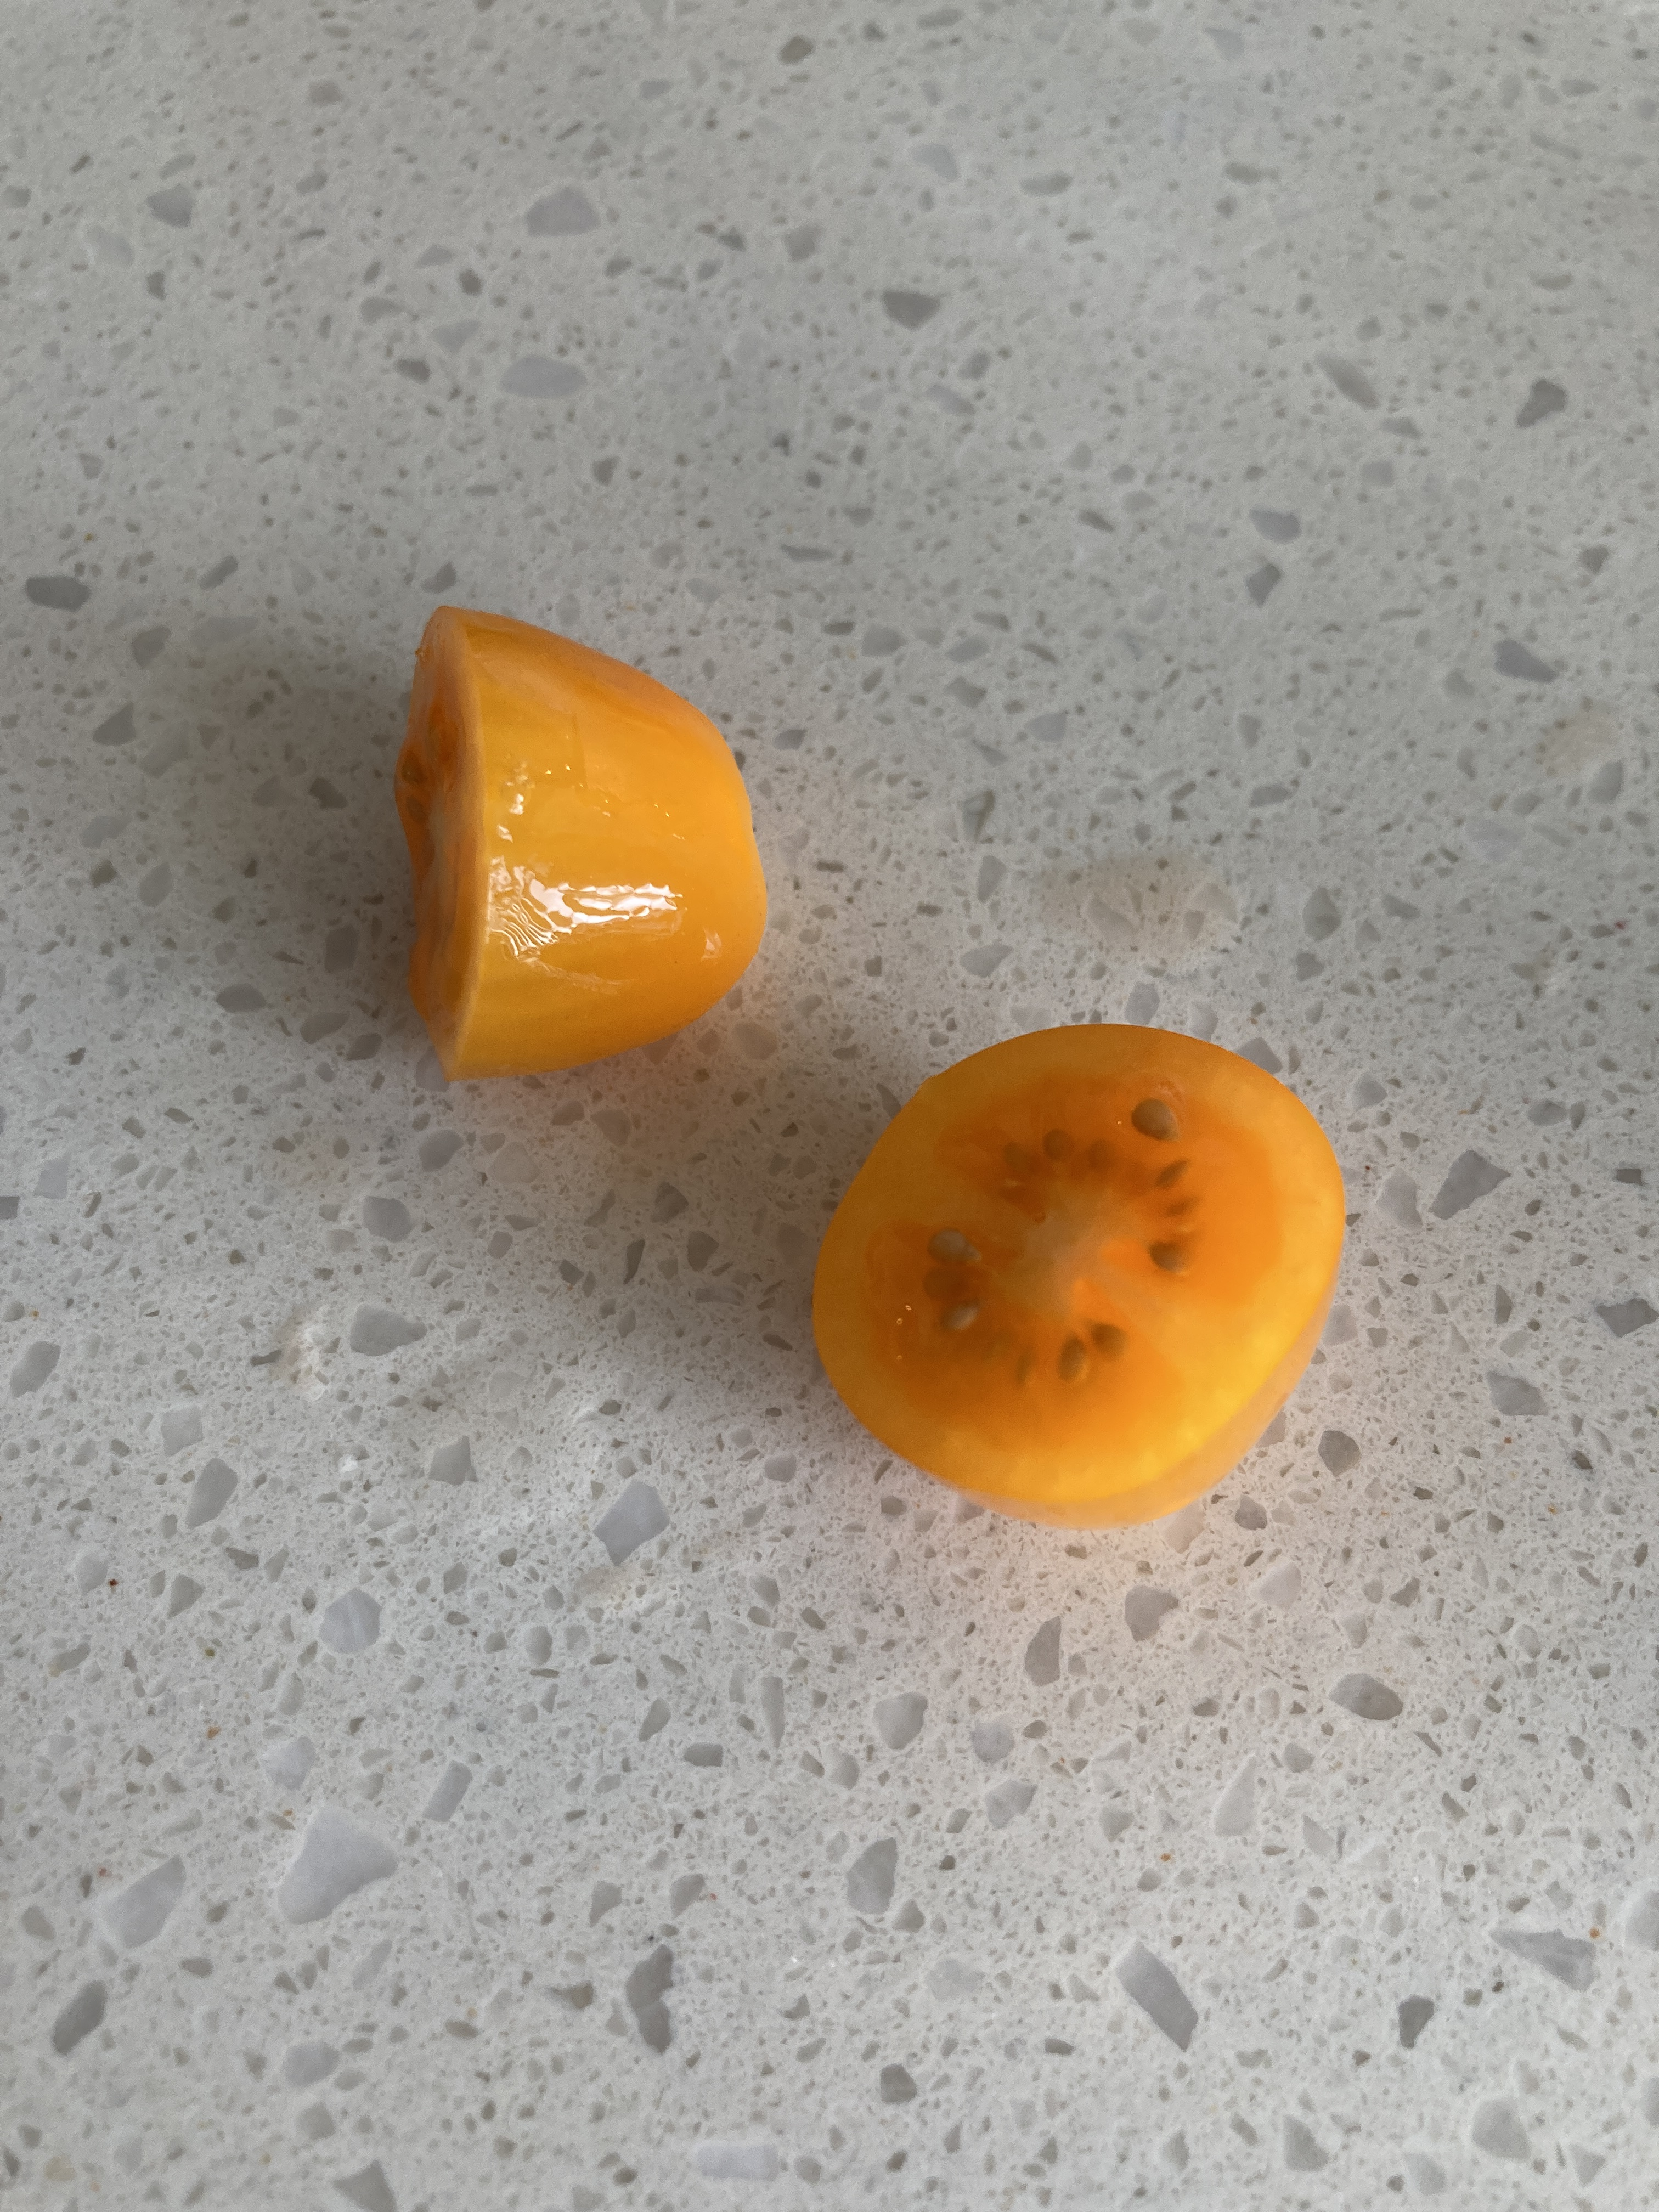healthy-tomato: (807, 1015, 1345, 1533), (396, 604, 777, 1071)
